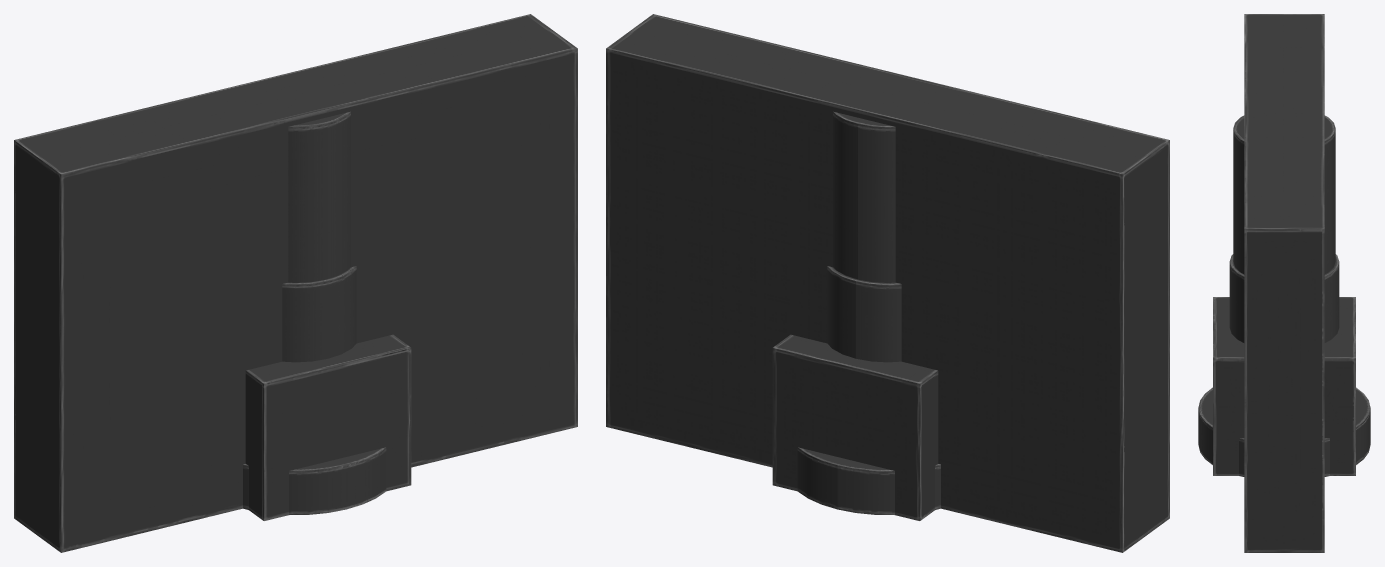
Rendered from primitives.FBX.
The picture shows the model from 3 angles, left to right: view 1: azimuth 30°, elevation 25°; view 2: azimuth 150°, elevation 25°; view 3: azimuth 270°, elevation 25°; orthographic projection. The views are drawn at different scales.
Parts seen in each view (by area): view 1: Box003, Box001, Cylinder002, Cylinder003, Cylinder001; view 2: Box003, Box001, Cylinder002, Cylinder003, Cylinder001; view 3: Box003, Box001, Cylinder002, Cylinder001, Cylinder003.
Boxes of the visible parts, <box> form: Box003: <box>14,14,577,552</box>; Box001: <box>245,334,411,520</box>; Cylinder002: <box>288,111,350,282</box>; Cylinder003: <box>282,266,356,362</box>; Cylinder001: <box>243,447,386,514</box>; Box003: <box>606,14,1169,552</box>; Box001: <box>772,334,938,520</box>; Cylinder002: <box>833,111,895,282</box>; Cylinder003: <box>827,266,901,362</box>; Cylinder001: <box>797,447,940,514</box>; Box003: <box>1244,14,1324,552</box>; Box001: <box>1213,297,1355,475</box>; Cylinder002: <box>1233,115,1335,274</box>; Cylinder001: <box>1198,387,1370,476</box>; Cylinder003: <box>1229,254,1339,342</box>.
Bounding box in the file's own units: 132 × 92.59 × 44.62.
Materials: 1 (1 with a texture image).
